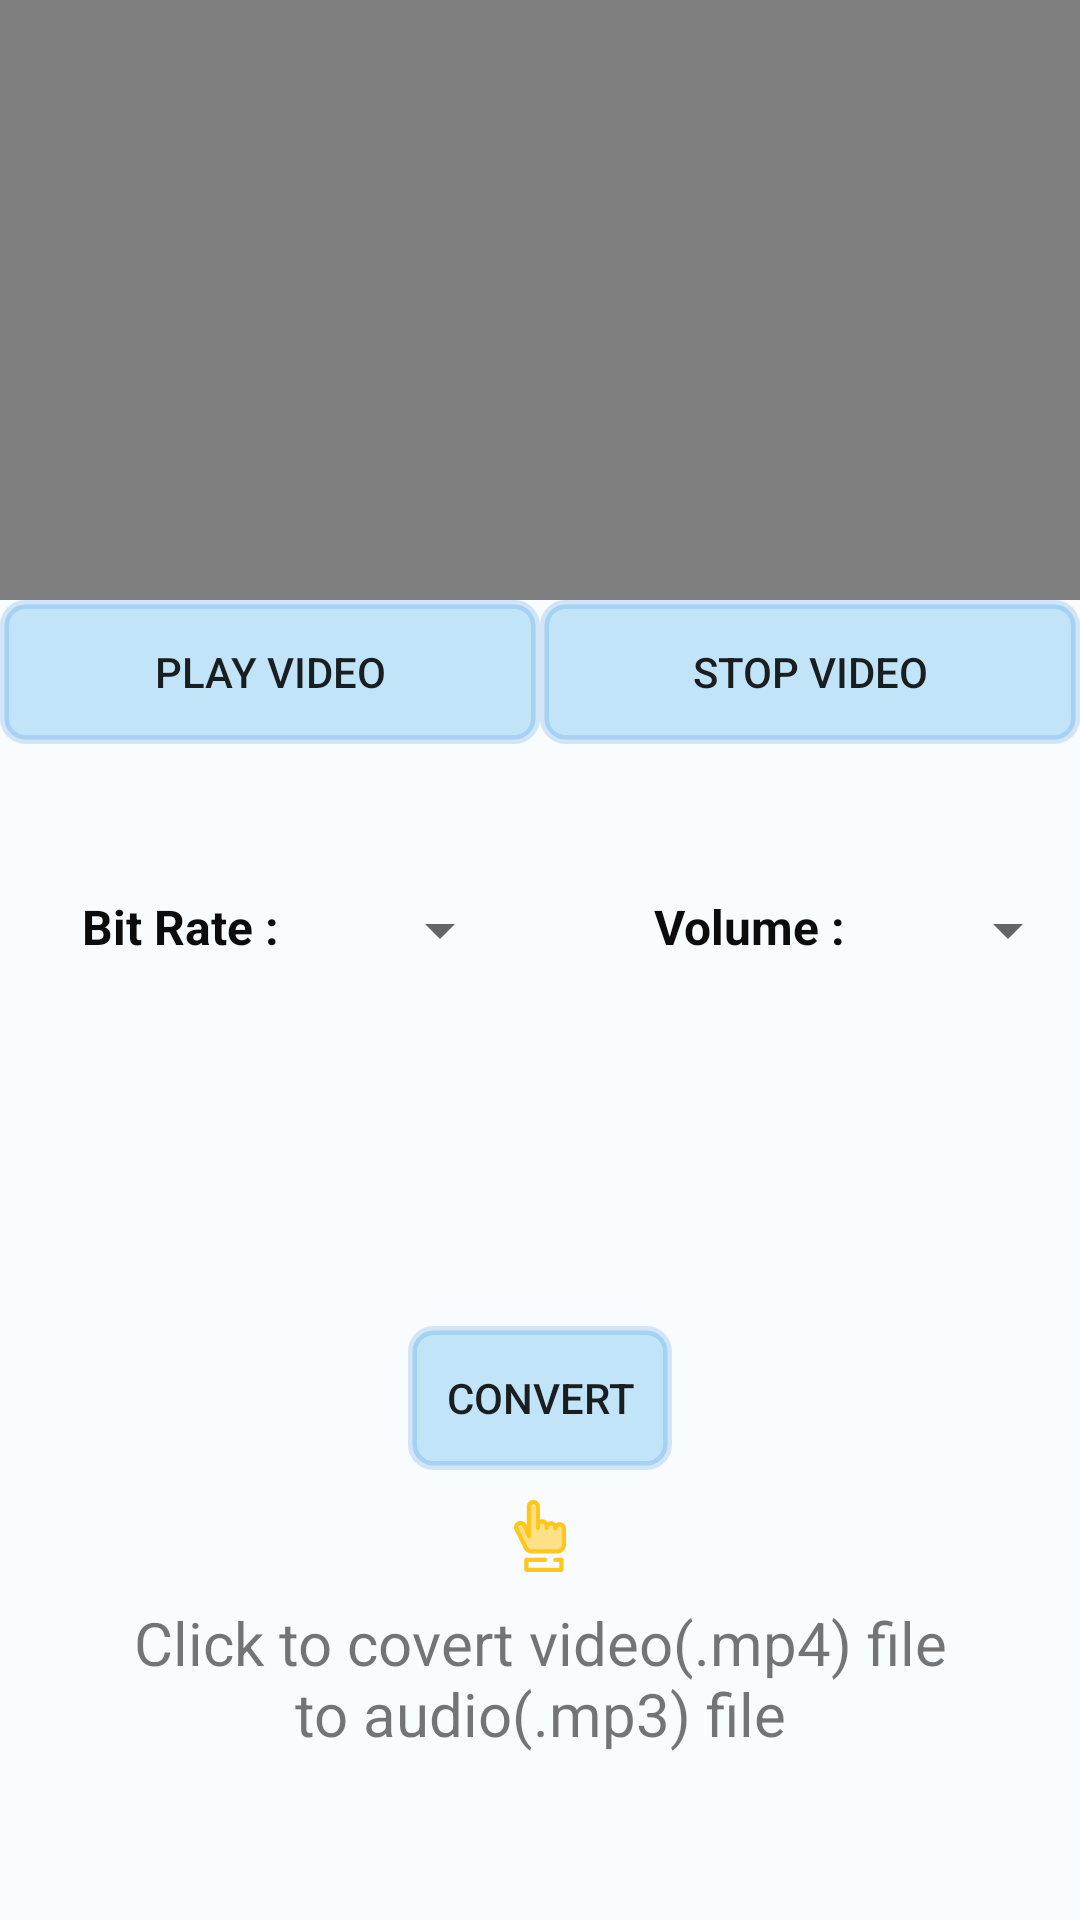

Icons on this 1080 x 1920 Android screen, each with the point to tap as [x,y]:
cli: [540,1536]
